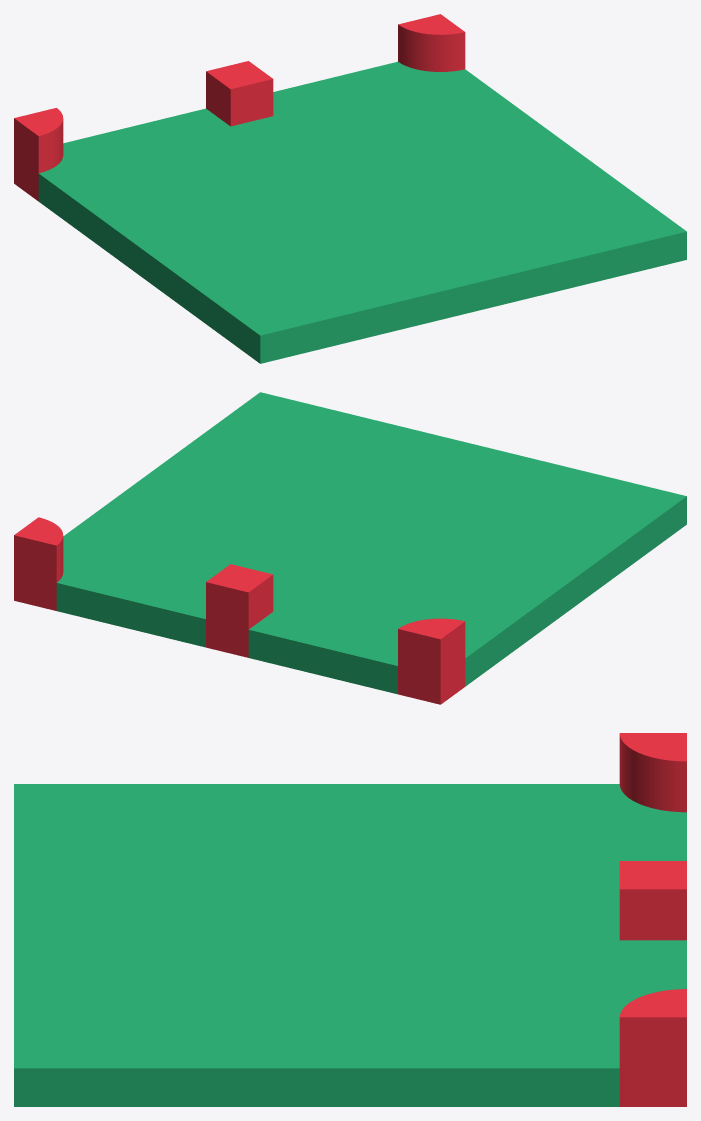
File: splitWallsToOpen.fbx
3 renders of one model, top to bottom at view 1: azimuth 30°, elevation 25°; view 2: azimuth 150°, elevation 25°; view 3: azimuth 270°, elevation 25°, orthographic. The views are drawn at different scales.
Visible parts, largest first — view 1: splitWallsToOpen; view 2: splitWallsToOpen; view 3: splitWallsToOpen.
Boxes of the visible parts, box(x1,y1,x2,y2) form: splitWallsToOpen: box(14, 14, 686, 363); splitWallsToOpen: box(14, 392, 686, 704); splitWallsToOpen: box(14, 733, 686, 1106).
Size of the model in its own units: 10 by 1.47 by 10.
